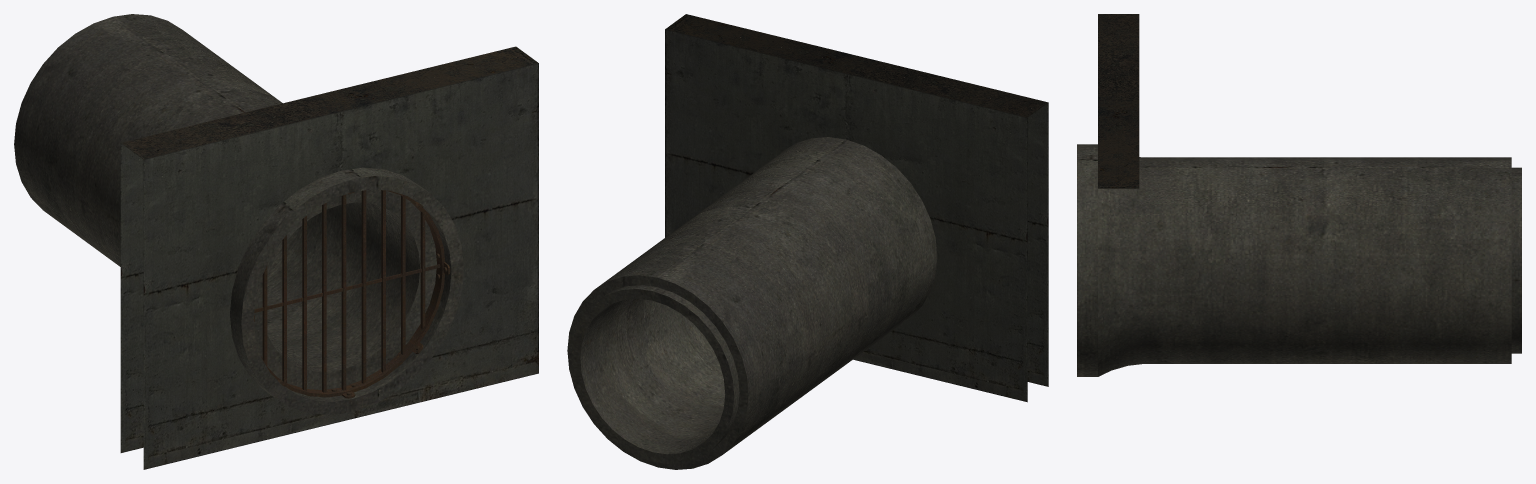
File: wall_rg_1_hole_1.obj
3 renders of one model, left to right at view 1: azimuth 30°, elevation 25°; view 2: azimuth 150°, elevation 25°; view 3: azimuth 270°, elevation 25°, orthographic. The views are drawn at different scales.
Visible parts, largest first — view 1: wall_rg_1_hole_1; view 2: wall_rg_1_hole_1; view 3: wall_rg_1_hole_1.
Part boxes in pixels (left/top/right/bottom): wall_rg_1_hole_1: left=14, top=14, right=538, bottom=469; wall_rg_1_hole_1: left=567, top=14, right=1048, bottom=469; wall_rg_1_hole_1: left=1077, top=14, right=1521, bottom=376.
Bounding box in the file's own units: 4 × 3 × 4.3.
